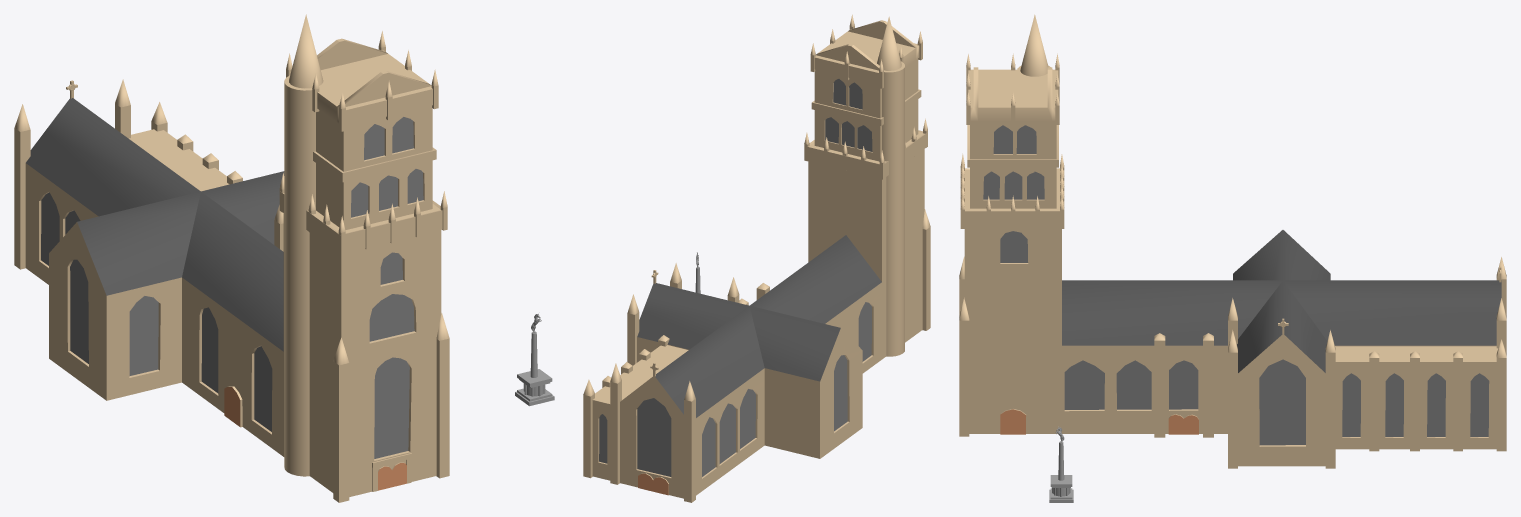
File: Overgate_Church (2).fbx
3 renders of one model, left to right at view 1: azimuth 30°, elevation 25°; view 2: azimuth 150°, elevation 25°; view 3: azimuth 270°, elevation 25°, orthographic. The views are drawn at different scales.
Parts seen in each view (by area): view 1: polySurface2; view 2: polySurface2; view 3: polySurface2.
Part boxes in pixels (x1,y1,x2,y2): polySurface2: [14, 14, 554, 502]; polySurface2: [583, 14, 930, 502]; polySurface2: [959, 14, 1506, 502].
Size of the model in its own units: 13.49 by 17.35 by 22.4.
